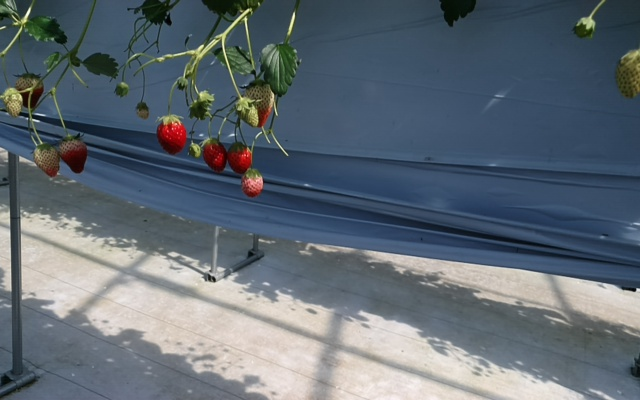GreenStrawberry: (612, 47, 640, 101), (249, 83, 277, 131), (15, 74, 45, 110), (34, 144, 63, 180), (235, 98, 260, 130), (2, 88, 22, 120), (188, 141, 201, 160), (136, 103, 149, 120)
MatureStrawberry: (158, 114, 187, 160), (58, 136, 90, 176), (203, 138, 230, 174), (227, 144, 252, 175), (241, 170, 264, 200)
